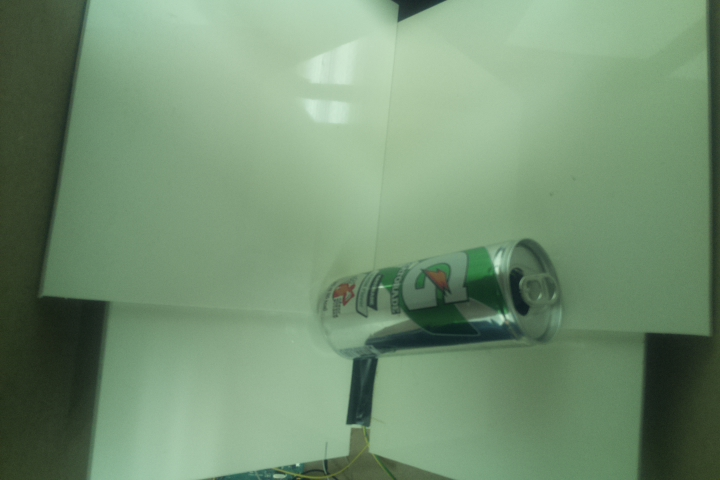can: (318, 233, 562, 361)
